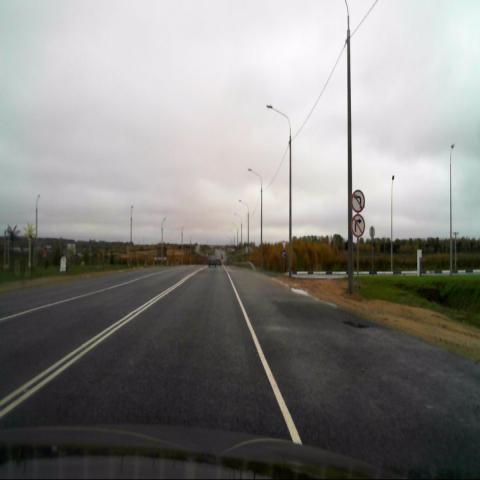3_18: (351, 214, 365, 238)
3_18_2: (351, 188, 365, 213)
